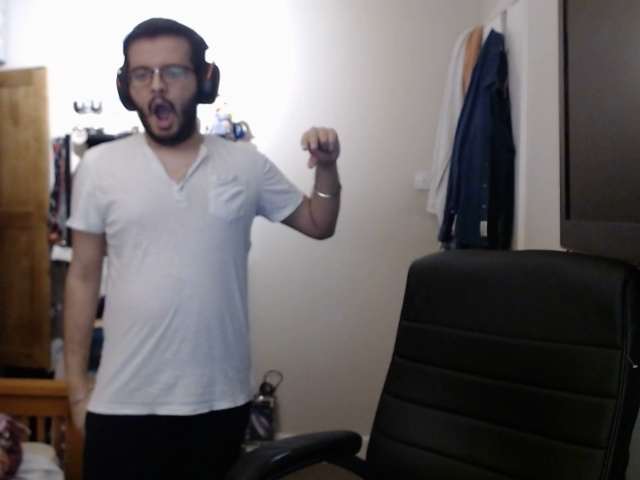No: (296, 120, 348, 178)
